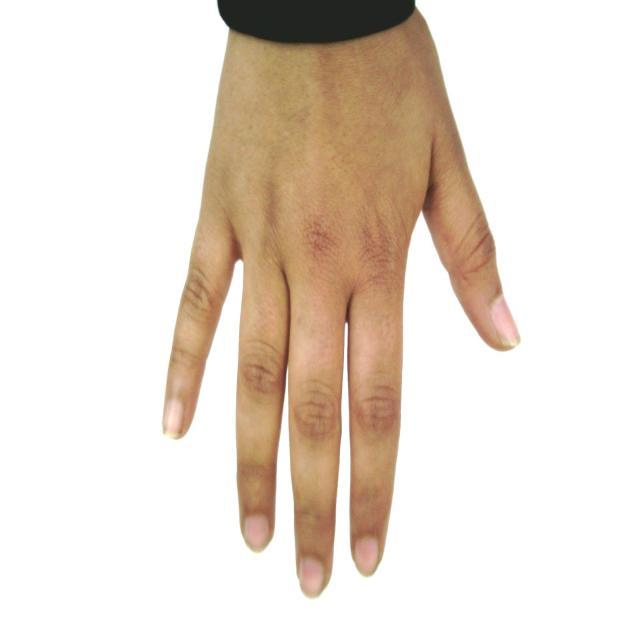Fingernail: (492, 296, 520, 346), (301, 558, 324, 598), (356, 536, 379, 575), (246, 515, 269, 552), (165, 399, 183, 438)
